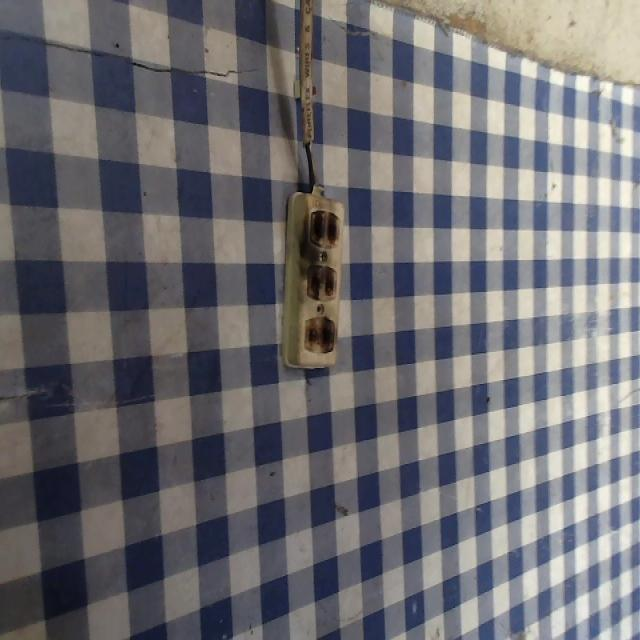-: (295, 304, 342, 357), (294, 206, 346, 253), (299, 260, 345, 308)
